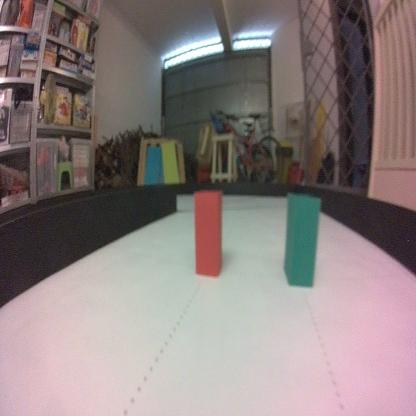green: (282, 192, 321, 290)
red: (194, 188, 223, 278)
